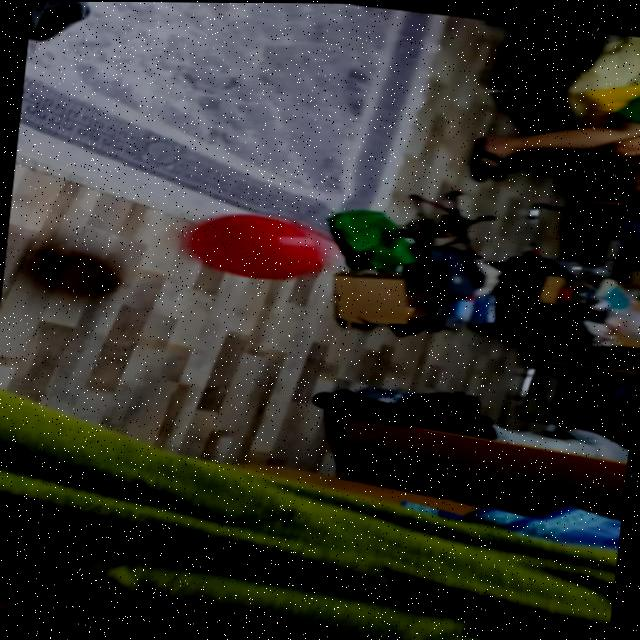balloon: (183, 208, 332, 287)
